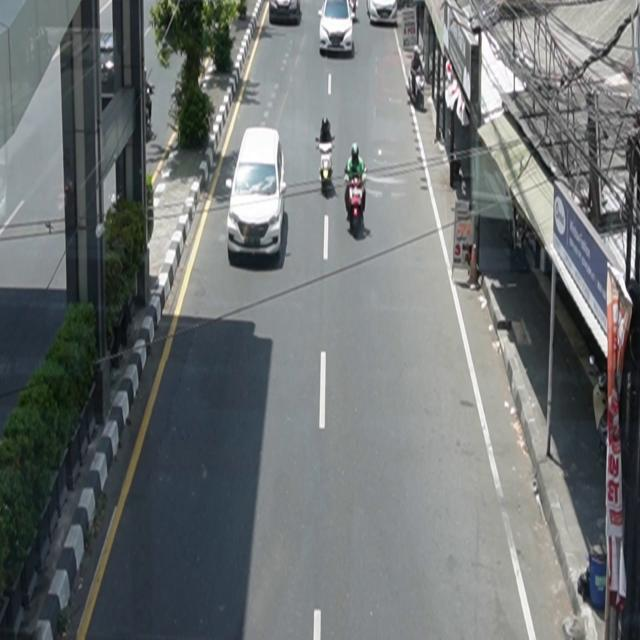car: (228, 127, 288, 261), (318, 1, 355, 58), (367, 1, 399, 26), (269, 1, 302, 25)
